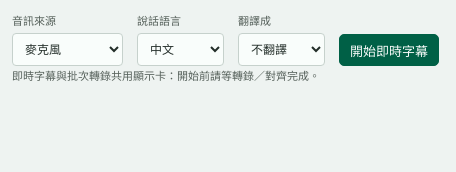
Scenario: asks for a text model before translating
Select "英文" in the dropdown labelled "翻譯成" at coordinates (282, 50), box [238,33,325,66]
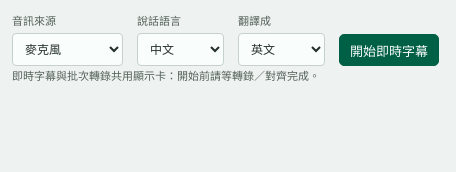
Click the button "開始即時字幕" at coordinates (389, 50), box [339,34,439,66]
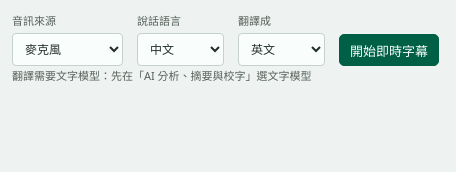
Now the text "翻譯需要文字模型：先在「AI 分析、摘要與校字」選文字模型" is shown, box [12,68,312,83]
